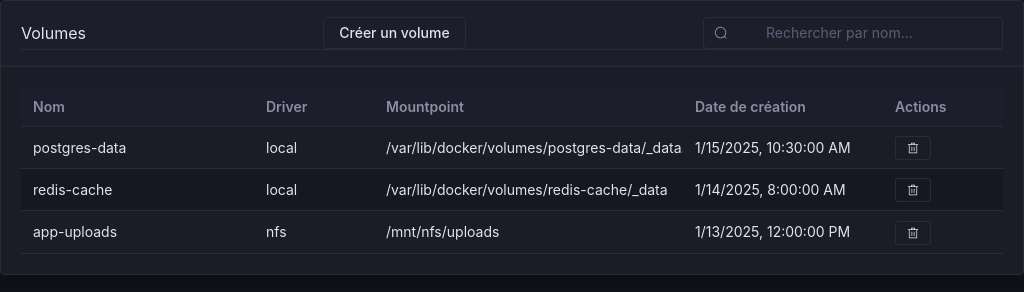
Test: Volumes.vue › filtre les volumes par nom
In the field with placeholder "Rechercher par nom...": (864, 33) [736,18,992,48], type "postgres"
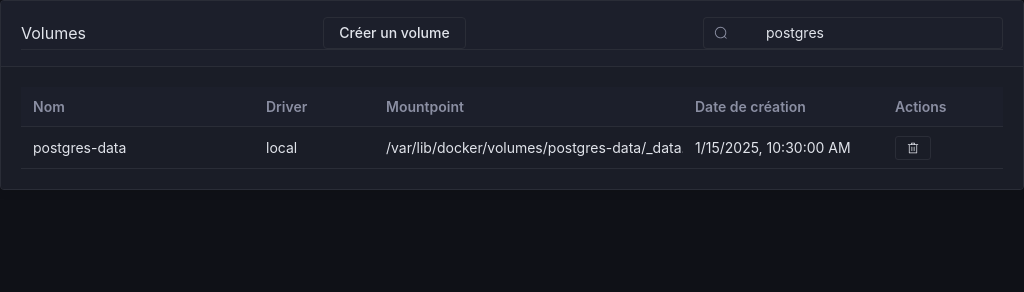
expect the text "postgres-data" is shown: met, box [33,139,126,156]
expect the text "redis-cache" is gone: met
